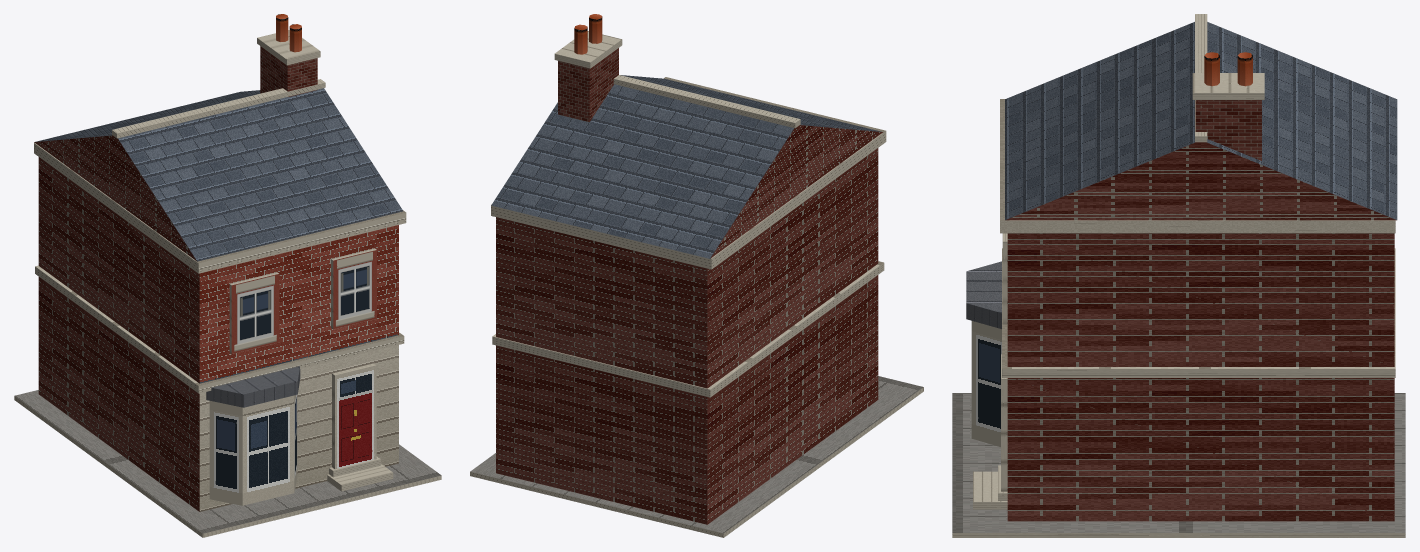
Rendered from building_victorian_house.glb.
3 renders of one model, left to right at view 1: azimuth 30°, elevation 25°; view 2: azimuth 150°, elevation 25°; view 3: azimuth 270°, elevation 25°, orthographic. The views are drawn at different scales.
Visible parts, largest first — view 1: Building_Victorian_House; view 2: Building_Victorian_House; view 3: Building_Victorian_House.
Boxes of the visible parts, <box> form: Building_Victorian_House: <box>14,14,441,537</box>; Building_Victorian_House: <box>470,14,923,537</box>; Building_Victorian_House: <box>952,14,1405,537</box>.
Size of the model in its own units: 6 by 9.19 by 8.2.
1 material, 1 textured.
